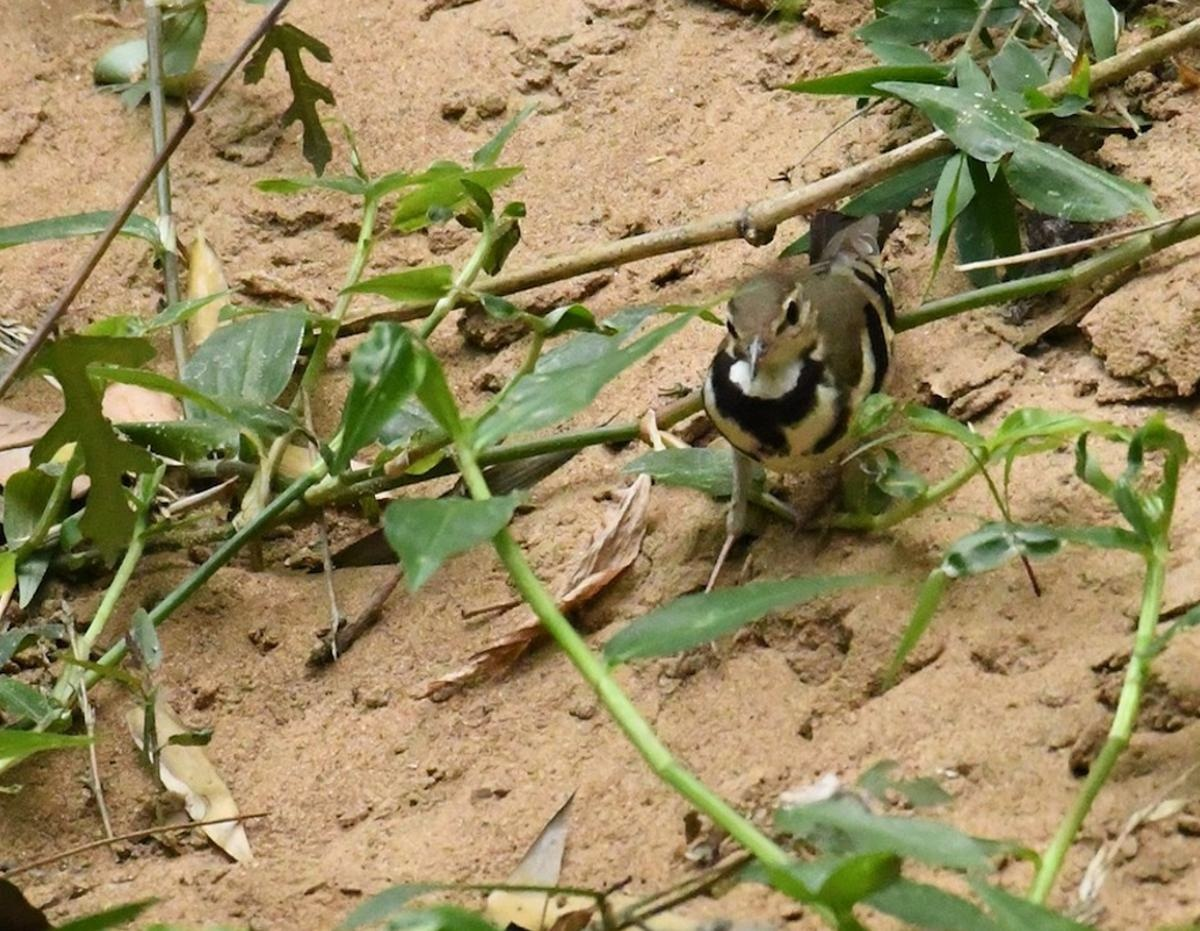wagtail: (697, 259, 939, 532)
